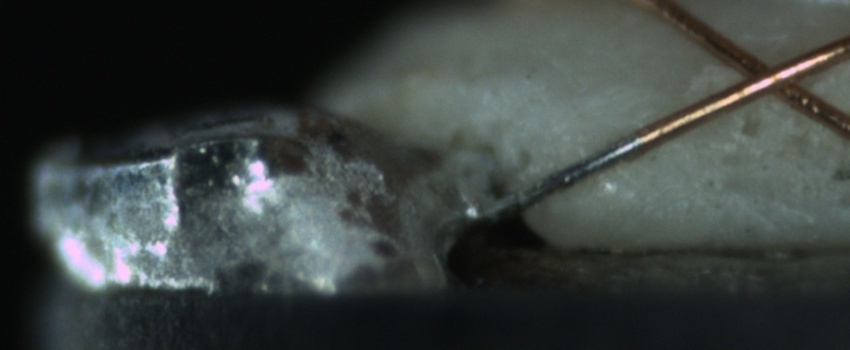CL: (717, 38, 828, 110)
TS: (467, 132, 638, 225)
